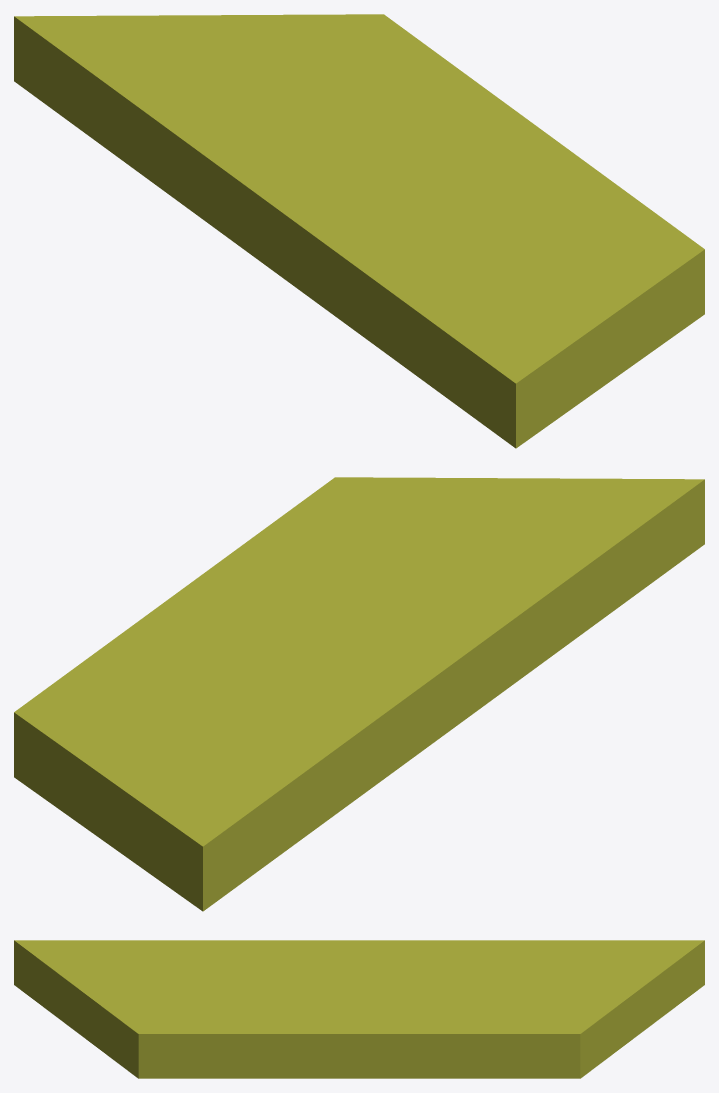
Rendered from item-jardinParque07.glb.
The picture shows the model from 3 angles, top to bottom: view 1: azimuth 30°, elevation 25°; view 2: azimuth 150°, elevation 25°; view 3: azimuth 270°, elevation 25°; orthographic projection. The views are drawn at different scales.
Visible parts, largest first — view 1: jardinParque07; view 2: jardinParque07; view 3: jardinParque07.
Boxes of the visible parts, box(x1,y1,x2,y2) form: jardinParque07: box(14, 14, 704, 448); jardinParque07: box(14, 477, 704, 911); jardinParque07: box(14, 940, 704, 1078).
Bounding box in the file's own units: 9 × 2 × 28.
